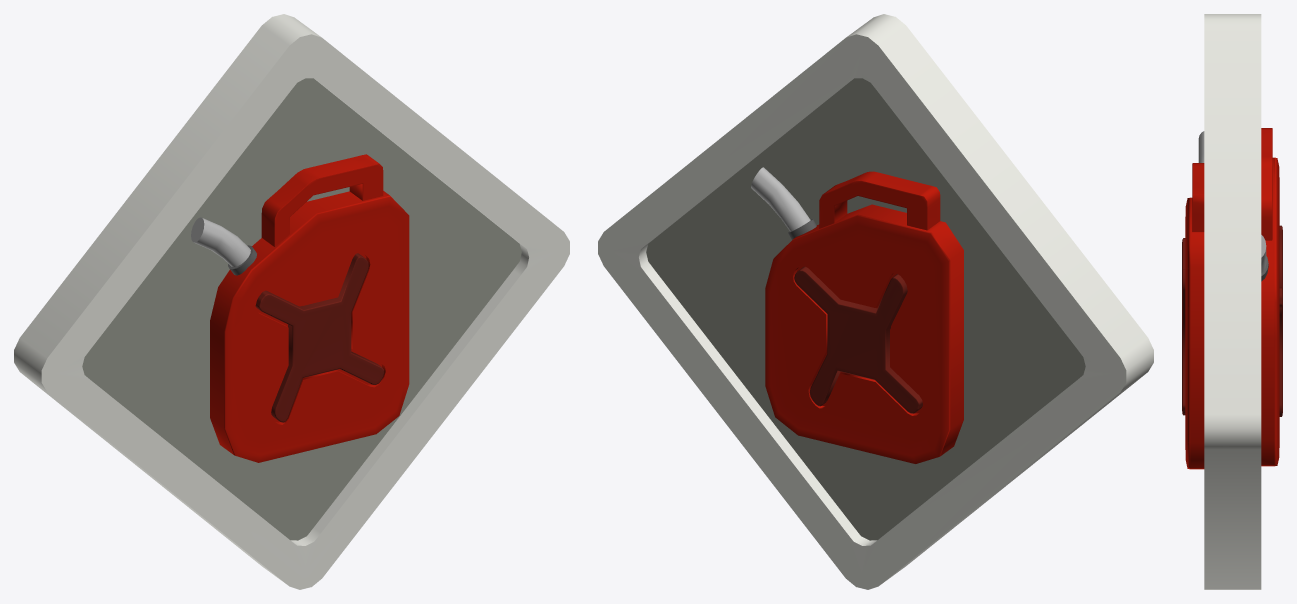
The model's file is fuel_ui.fbx.
3 renders of one model, left to right at view 1: azimuth 30°, elevation 25°; view 2: azimuth 150°, elevation 25°; view 3: azimuth 270°, elevation 25°, orthographic. The views are drawn at different scales.
Parts seen in each view (by area): view 1: fuel border, fuel; view 2: fuel border, fuel; view 3: fuel border, fuel.
Boxes of the visible parts, box(x1,y1,x2,y2) form: fuel border: box(14, 14, 569, 589); fuel: box(191, 154, 409, 462); fuel border: box(598, 14, 1153, 589); fuel: box(751, 167, 963, 463); fuel border: box(1204, 14, 1261, 589); fuel: box(1182, 128, 1282, 469).
Bounding box in the file's own units: 2.72 × 0.4362 × 2.72.
